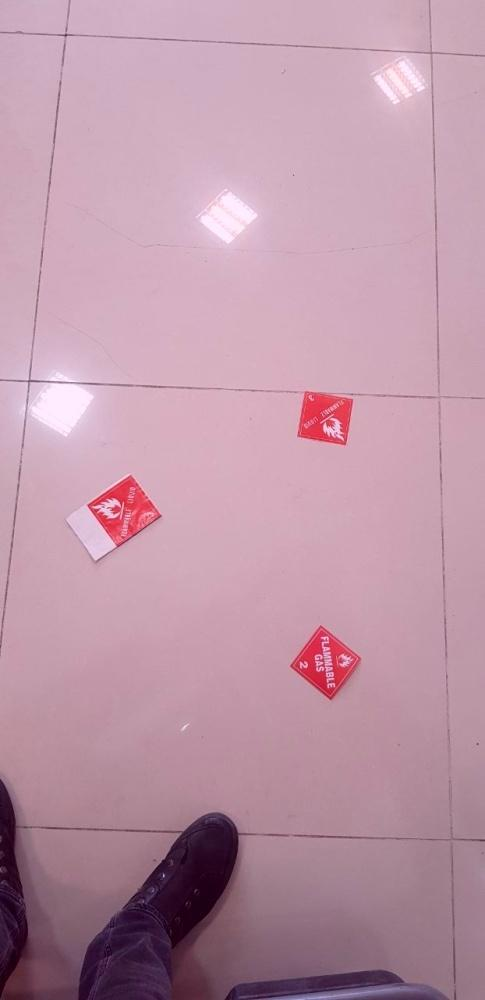flammable: (85, 471, 169, 551), (287, 624, 362, 701), (296, 389, 359, 448)
